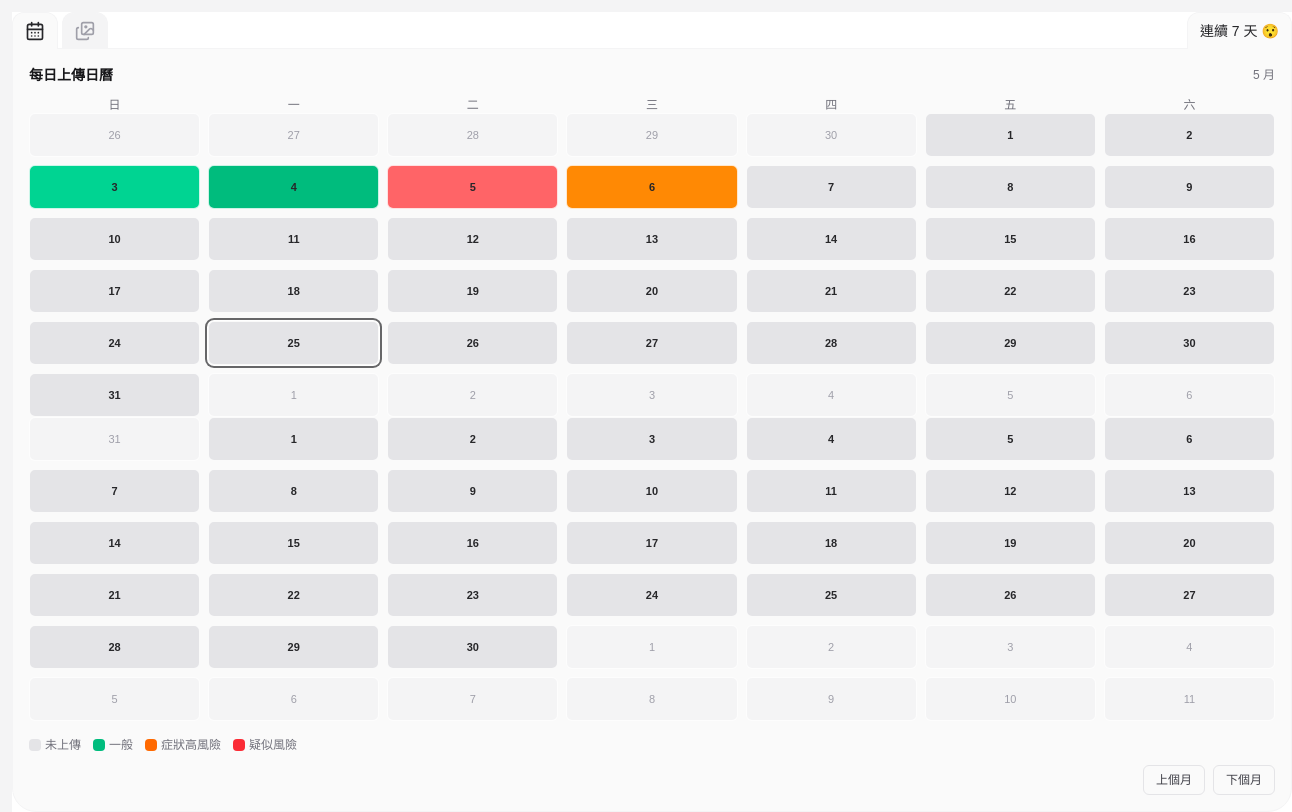
Test: PatientDailyCalendar month paging UI › photo mode replaces streak copy with 查看相簿 when galleryHref is set
Expected: the message with test id "calendar-streak-tab" shows "連續 7 天", x1=1187 y1=12 x2=1291 y2=49
Click the tab named "相片".
click(85, 30)  # box x1=62 y1=12 x2=108 y2=49
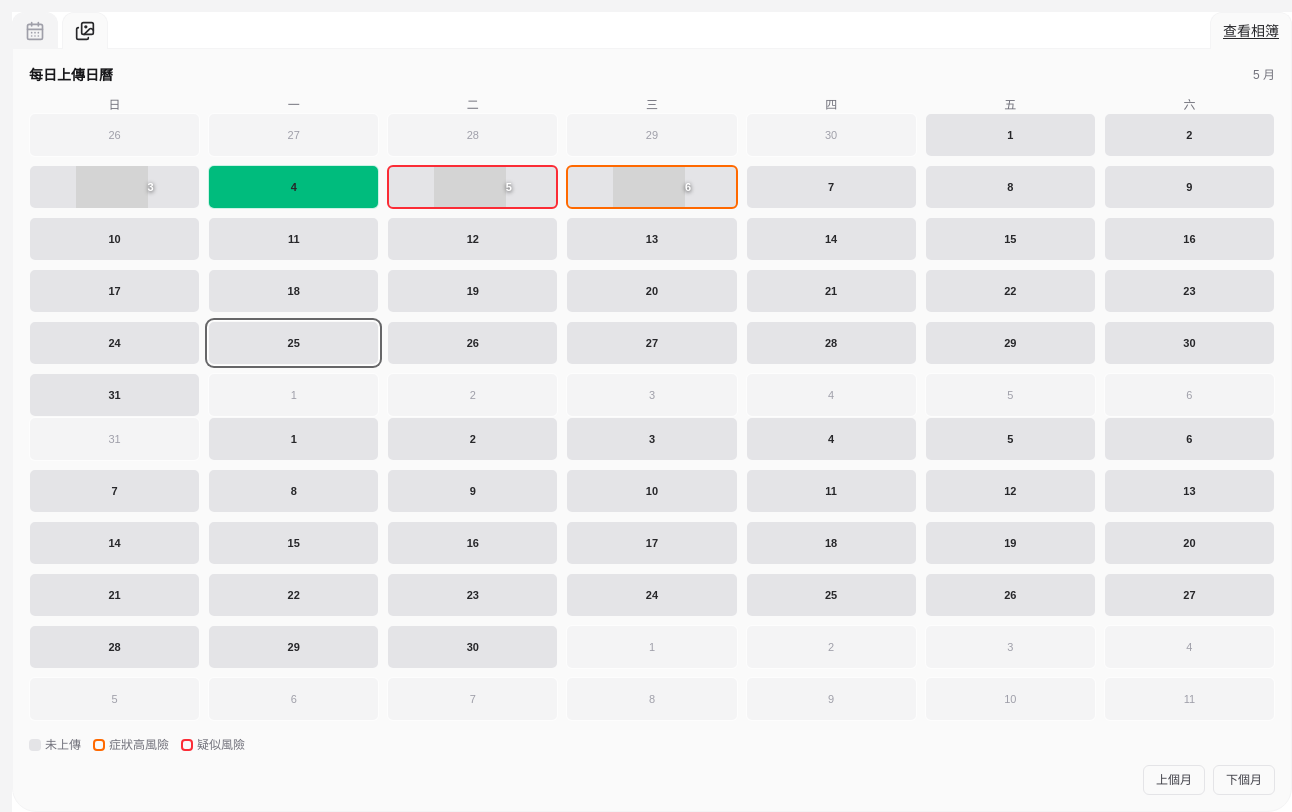
Expected: the message with test id "calendar-streak-tab" is gone
Expected: the link with test id "calendar-gallery-link" reads "查看相簿", x1=1210 y1=12 x2=1291 y2=49
